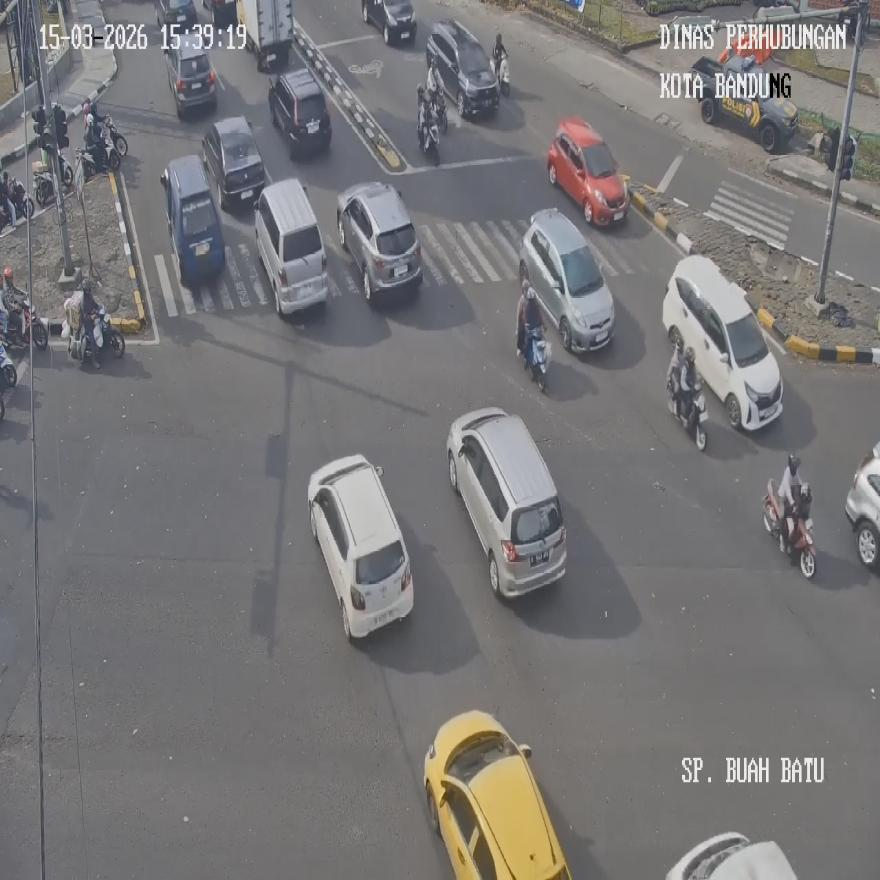Motor: (422, 710, 571, 879), (446, 407, 566, 599), (661, 254, 783, 429), (307, 452, 414, 638), (518, 207, 616, 353), (689, 48, 798, 152), (253, 179, 329, 316), (337, 182, 421, 301), (547, 118, 629, 228), (161, 154, 225, 285), (426, 17, 498, 116), (268, 63, 332, 156), (201, 116, 264, 210), (164, 29, 218, 116), (845, 443, 880, 568), (362, 0, 417, 44)
Truk: (764, 478, 816, 577), (70, 304, 125, 366), (667, 370, 706, 451), (77, 116, 122, 177), (3, 300, 49, 350), (32, 152, 73, 206), (416, 86, 441, 162), (522, 322, 548, 392), (1, 178, 34, 228), (0, 342, 17, 391), (491, 52, 509, 96)
